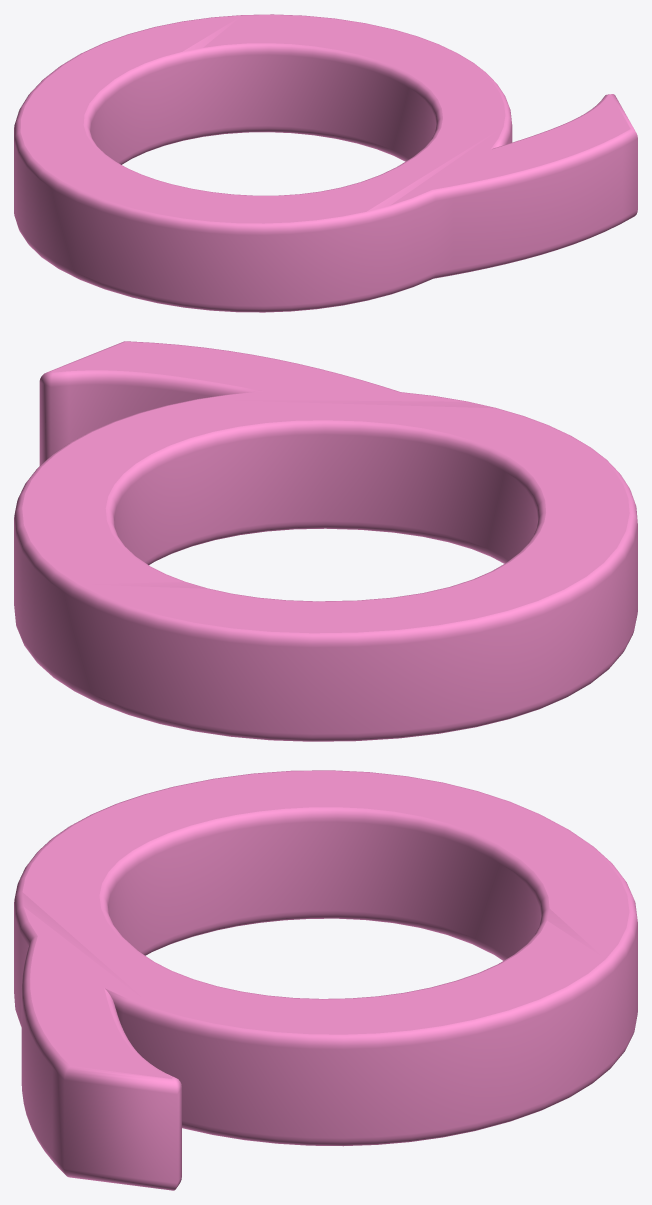
Rendered from ToyObject_218.fbx.
The picture shows the model from 3 angles, top to bottom: view 1: azimuth 30°, elevation 25°; view 2: azimuth 150°, elevation 25°; view 3: azimuth 270°, elevation 25°; orthographic projection. The views are drawn at different scales.
Visible parts, largest first — view 1: Object.090; view 2: Object.090; view 3: Object.090.
Part boxes in pixels (bbox=[...]): Object.090: bbox=[14, 14, 637, 312]; Object.090: bbox=[14, 341, 637, 741]; Object.090: bbox=[14, 770, 637, 1190].
Size of the model in its own units: 0.1534 by 0.0254 by 0.1283.
